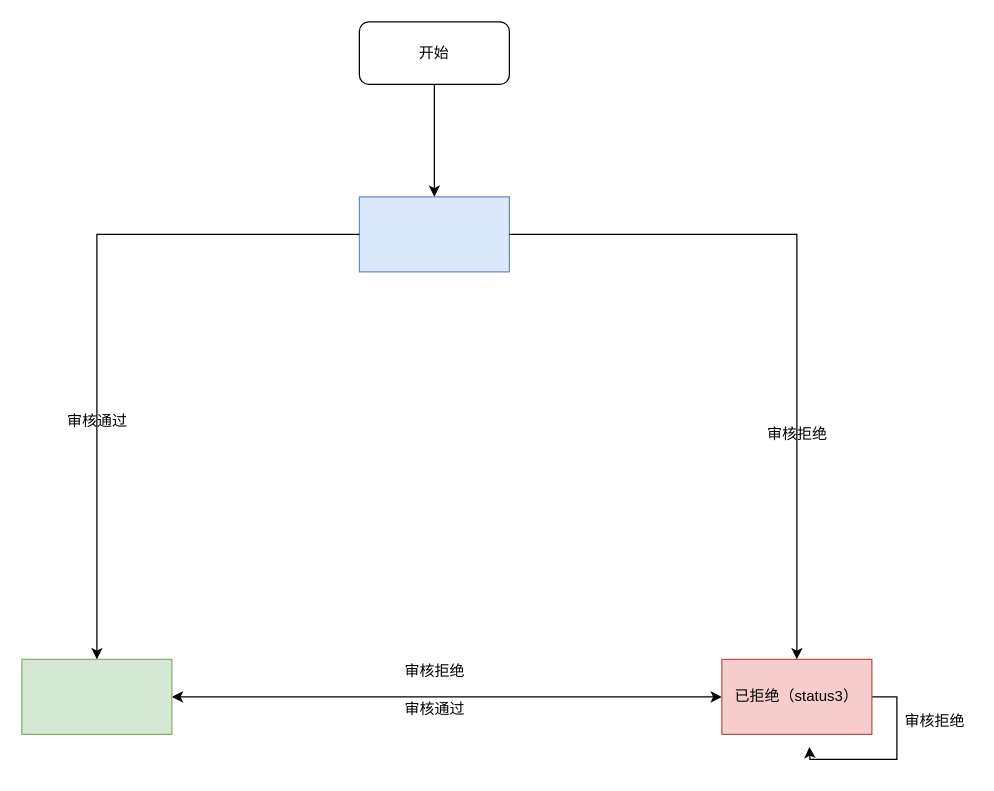
Image size: 994x791. Some labels were removed from this diagram. Each missing label, with the box of its shape:
已通过（status2）: (21, 658, 172, 734)
待审核（status1）: (358, 196, 509, 272)
